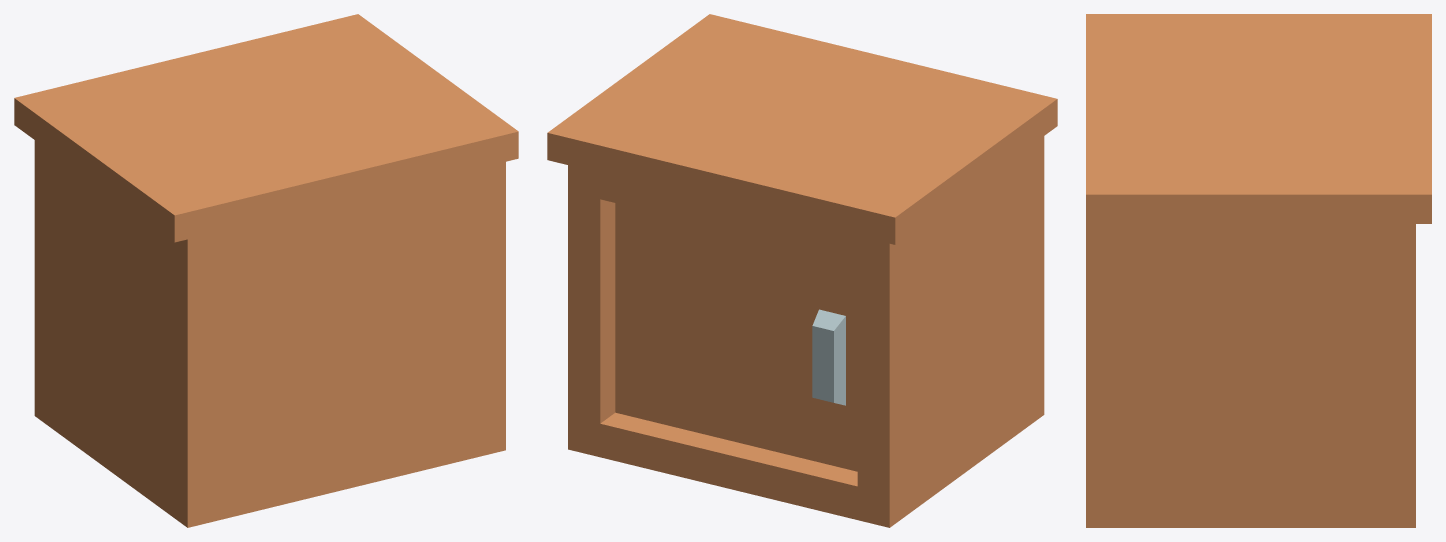
The model's file is Furniture_Cabinet_Bed.glb.
3 views of the same model, side by side, from view 1: azimuth 30°, elevation 25°; view 2: azimuth 150°, elevation 25°; view 3: azimuth 270°, elevation 25° (orthographic). The views are drawn at different scales.
Parts seen in each view (by area): view 1: cabinetBed; view 2: cabinetBed, door; view 3: cabinetBed.
Boxes of the visible parts, box(x1,y1,x2,y2) form: cabinetBed: box(14, 14, 518, 527); cabinetBed: box(547, 14, 1057, 527); door: box(615, 203, 857, 471); cabinetBed: box(1086, 14, 1431, 527).
Bounding box in the file's own units: 0.266 × 0.2332 × 0.215.
